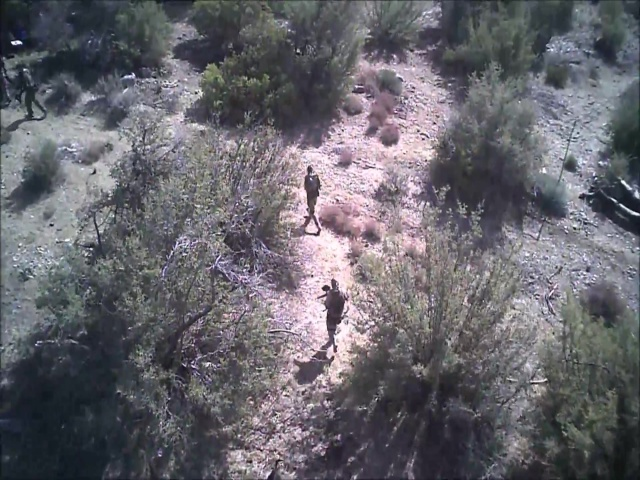person: (318, 277, 345, 354), (301, 162, 325, 233)
